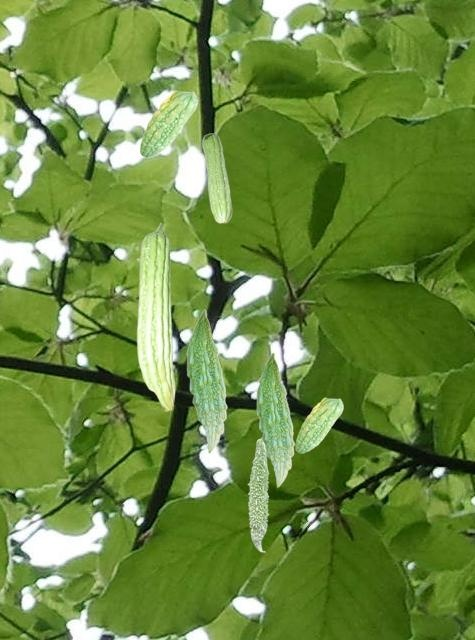ampalaya: (136, 222, 175, 412), (186, 309, 227, 454), (256, 352, 295, 488), (139, 90, 198, 158), (201, 132, 232, 223), (295, 397, 344, 454), (247, 438, 270, 552)
